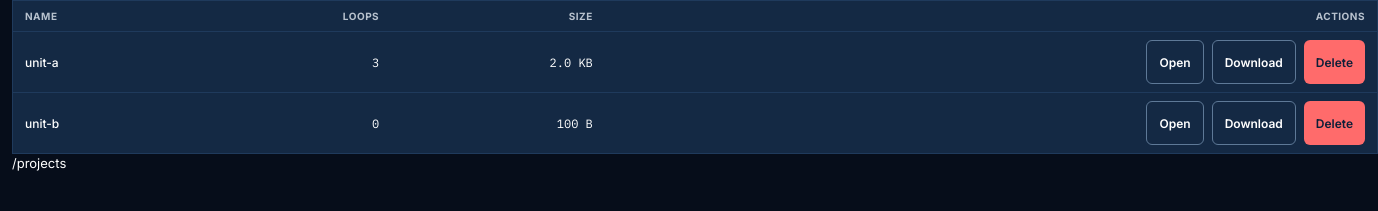
it: ProjectList › surfaces the real reason when the active project cannot be deleted
Expected: the cell "unit-a" is shown, [12,32,199,93]
Step 1. Click the button "Delete" in the row of "unit-a" → click(1334, 62), box [1304,40,1365,84]
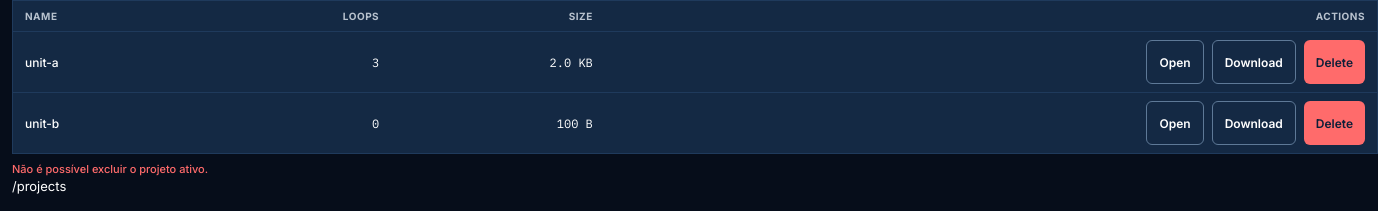
Now the text "Não é possível excluir o projeto ativo." is shown, box [12,162,208,176]
